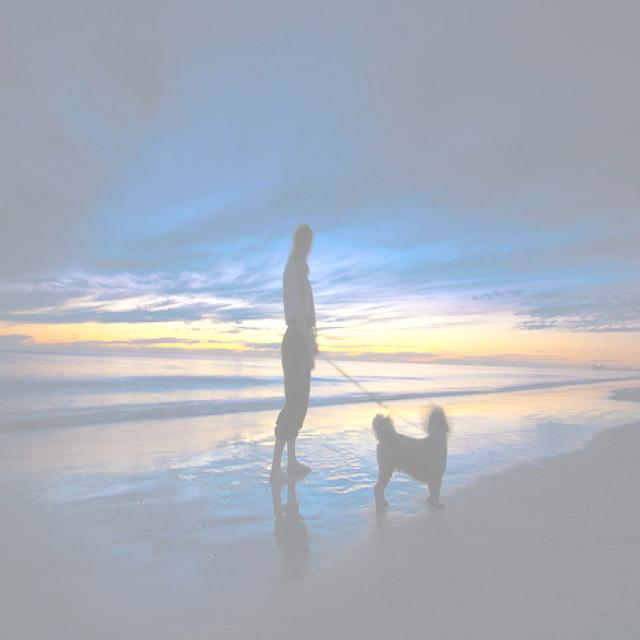Dog: (348, 394, 472, 511)
